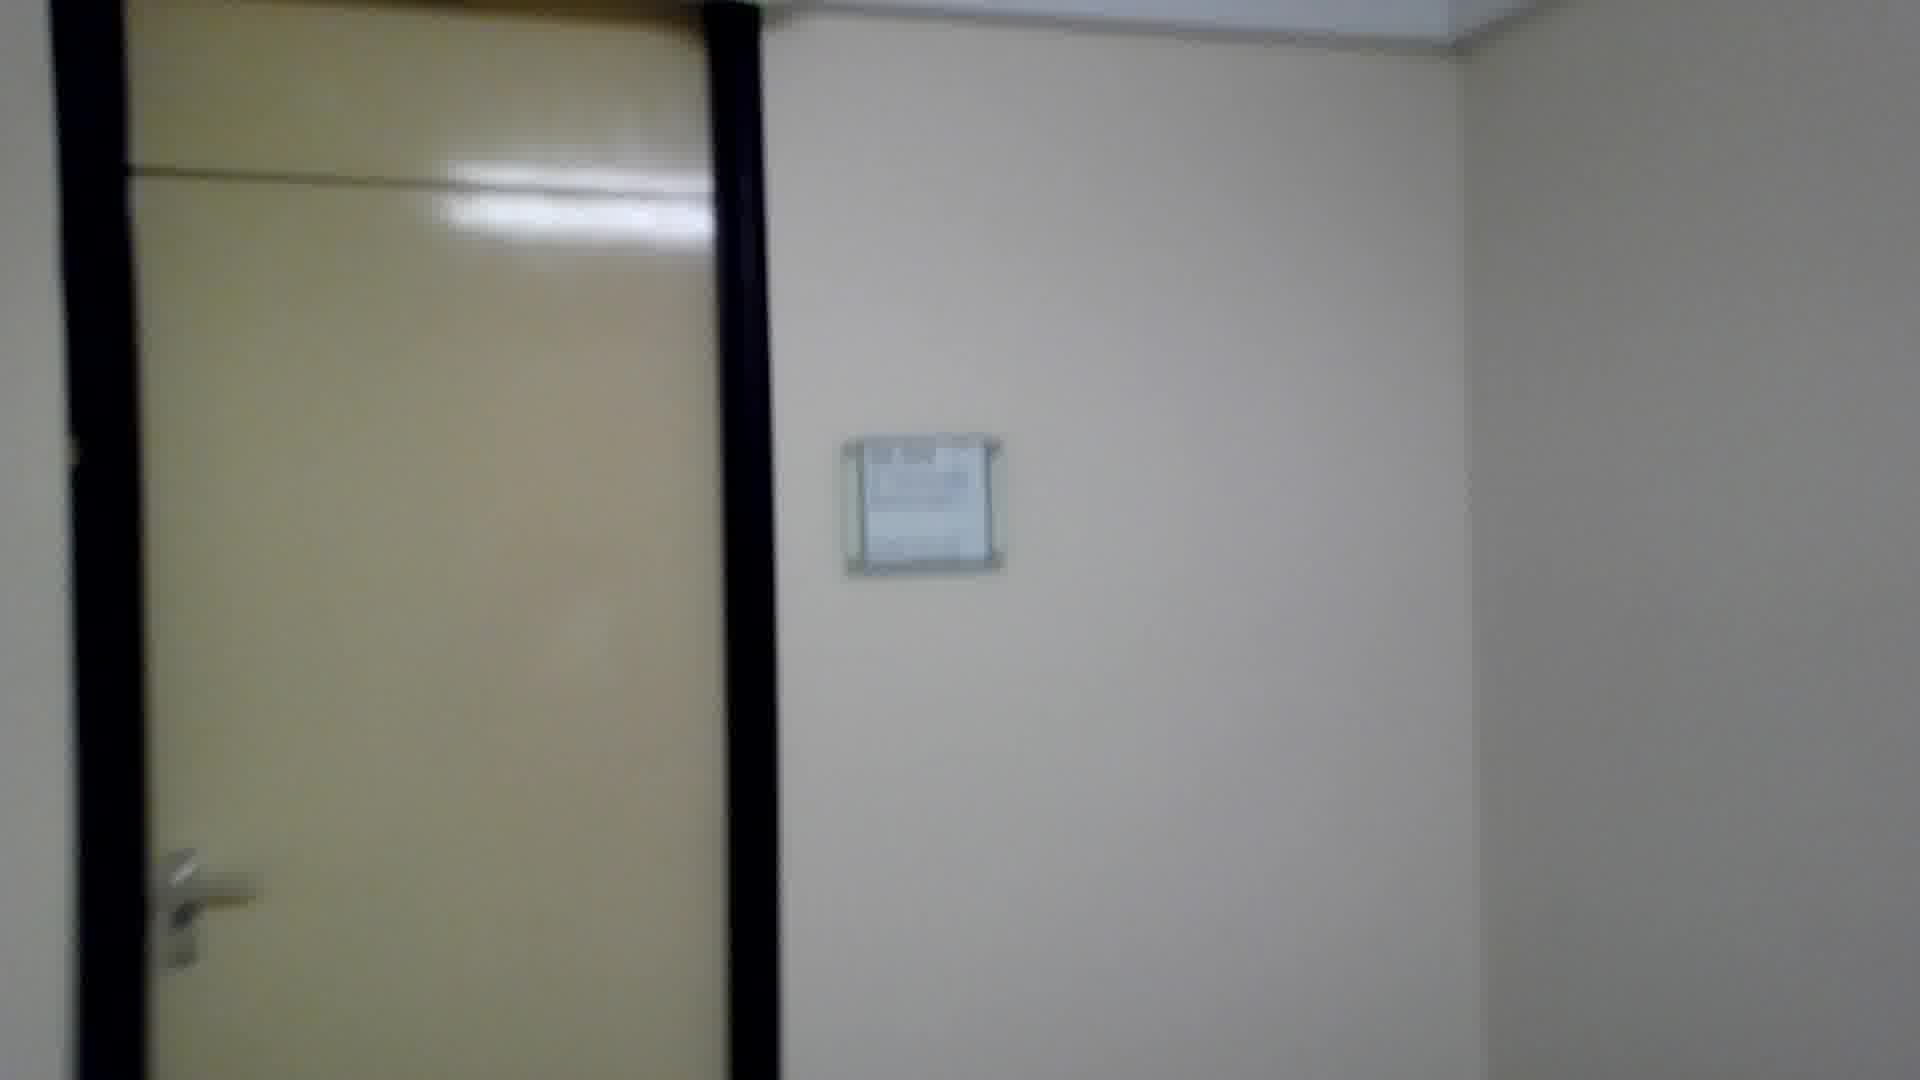Door: (37, 152, 839, 1080)
